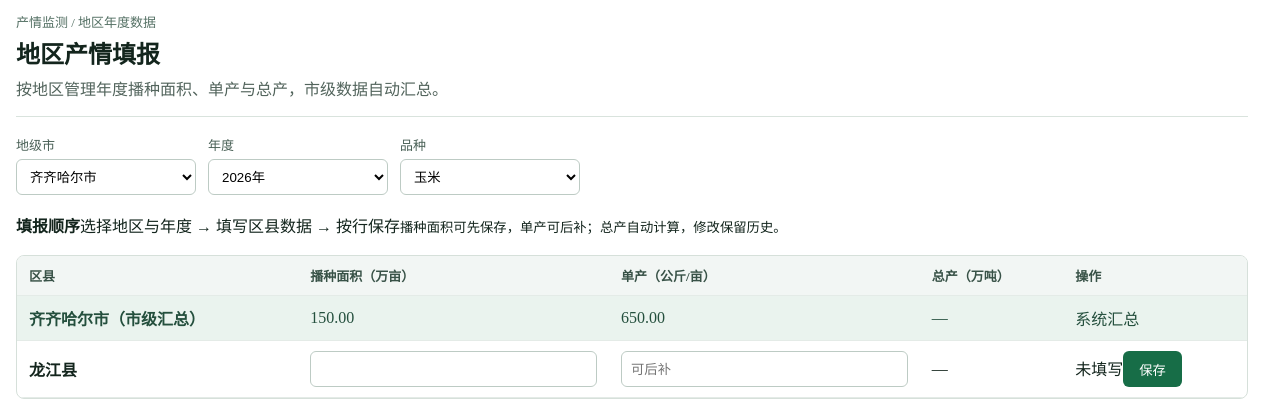
Test case: RegionalAnnualProductionWorkspace › saves county area and yield and shows backend-calculated output
The width and height of the screenshot is (1265, 416).
Expected: the column heading "齐齐哈尔市（市级汇总）" is shown, [17,296,298,340]
Expected: the text "未填写" is shown, [1075,360,1123,378]
Type "68.93" into the number field named "龙江县播种面积" at (454, 369), box [310,351,597,387]
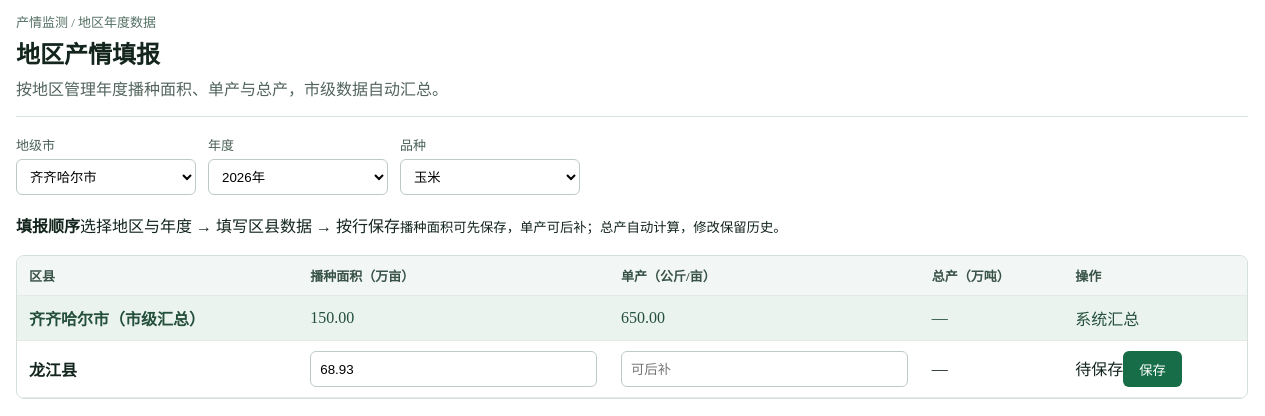
Type "171" into the number field named "龙江县单产" at (764, 369), box [621,351,908,387]
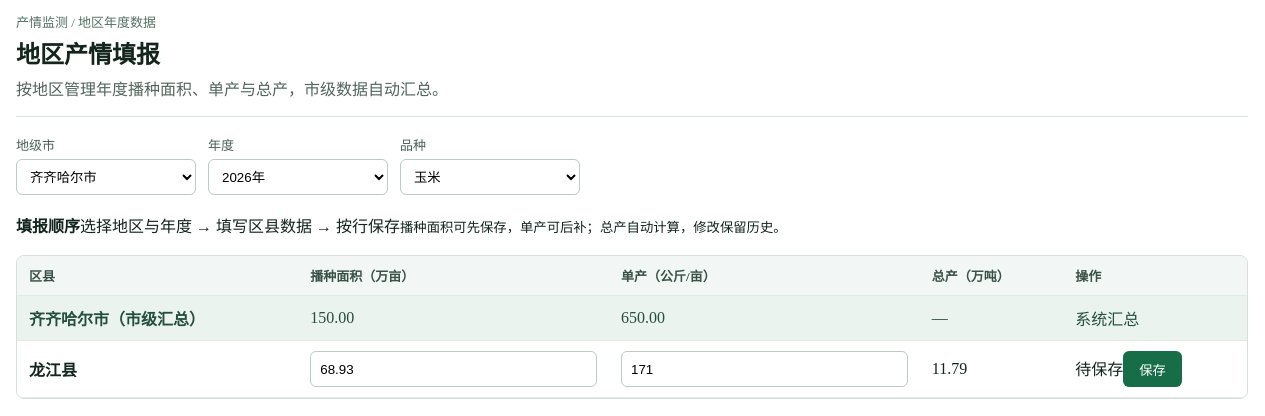
Now the text "待保存" is shown, box [1075,360,1123,378]
Now the text "11.79" is shown, box [920,340,1063,398]
Click the button with aria-label "保存龙江县" at (1153, 369), box [1123,351,1182,387]
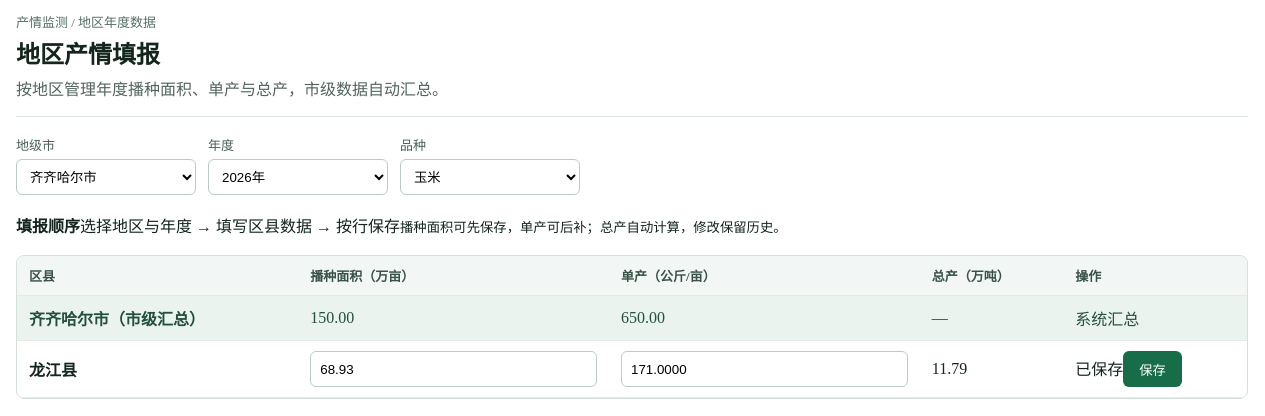
Now the text "已保存" is shown, box [1075,360,1123,378]
